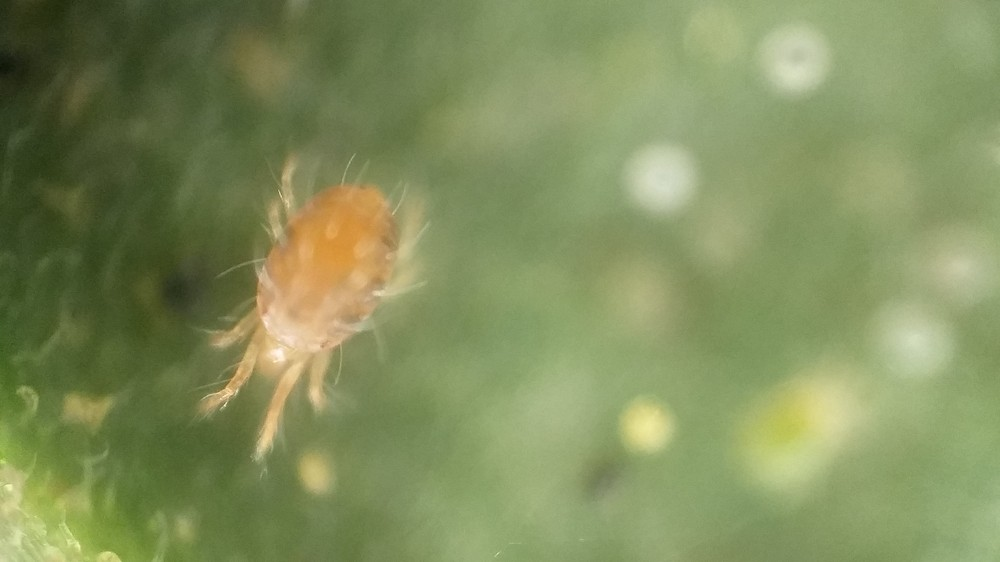Aracnido Rojo: (171, 140, 453, 471)
